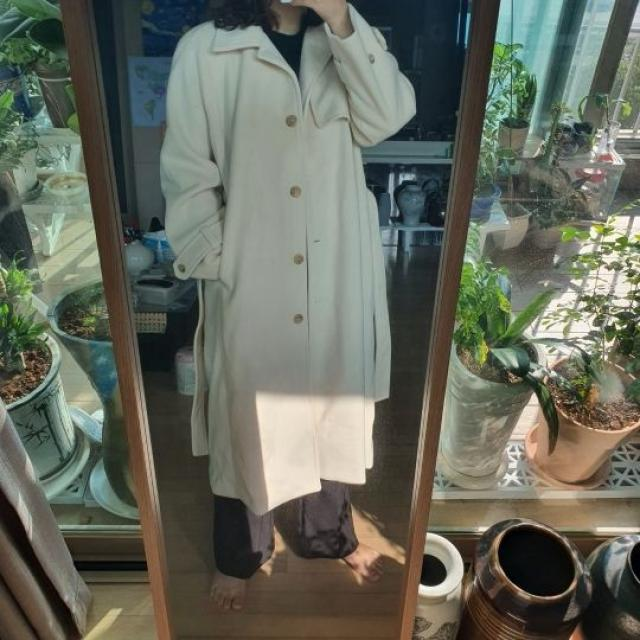coat: (158, 4, 419, 512)
slacks: (212, 478, 358, 580)
